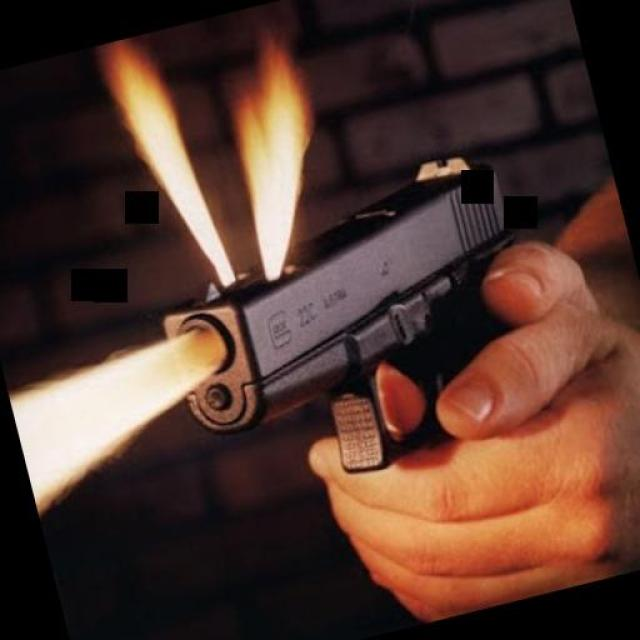gun: (128, 125, 572, 526)
